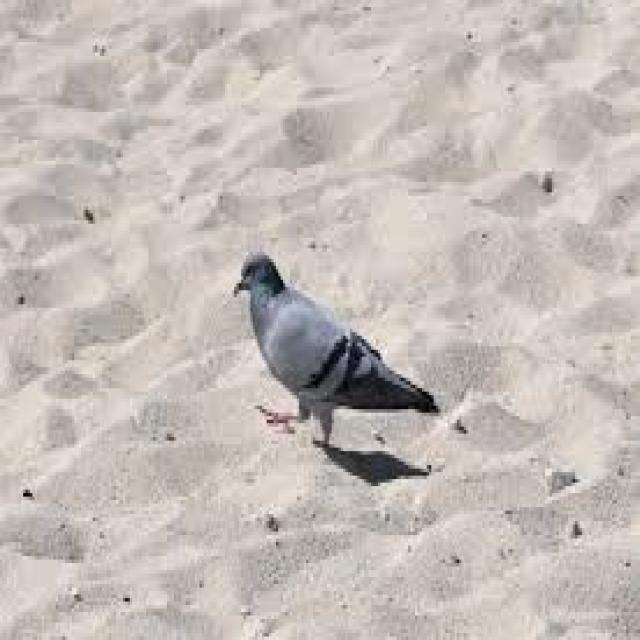bird: (233, 243, 441, 459)
